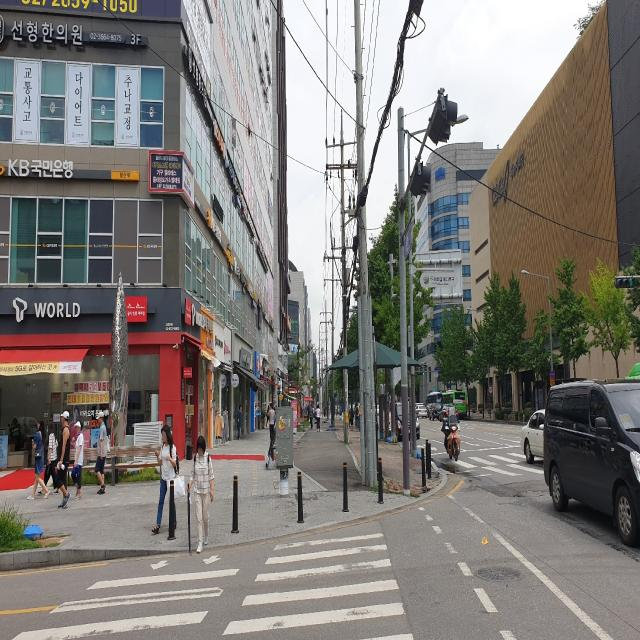횡단보도: (11, 529, 417, 640), (447, 446, 543, 478)
